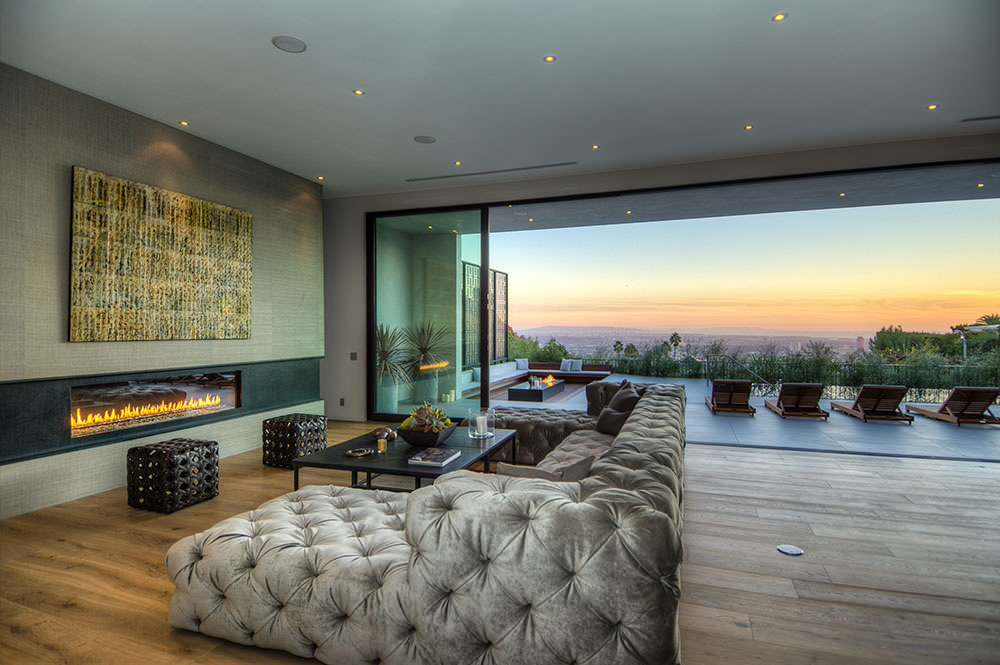sofa: (168, 376, 692, 665)
table: (293, 419, 518, 485)
wall art: (58, 159, 260, 347)
